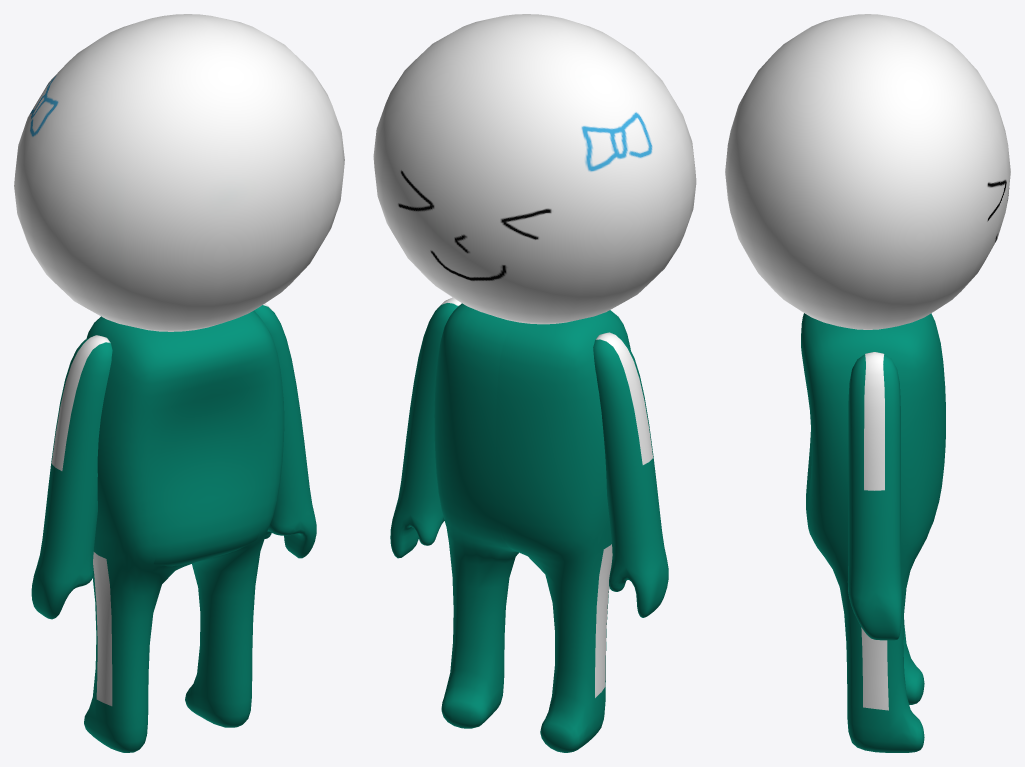
File: 츄리닝캐릭터.glb
3 renders of one model, left to right at view 1: azimuth 30°, elevation 25°; view 2: azimuth 150°, elevation 25°; view 3: azimuth 270°, elevation 25°, orthographic. The views are drawn at different scales.
Parts seen in each view (by area): view 1: Cube; view 2: Cube; view 3: Cube.
Part boxes in pixels (<box>): Cube: <box>14,14,344,752</box>; Cube: <box>373,14,696,752</box>; Cube: <box>725,14,1010,752</box>.
Bounding box in the file's own units: 0.5006 × 1.15 × 0.4269.
1 material, 1 textured.
